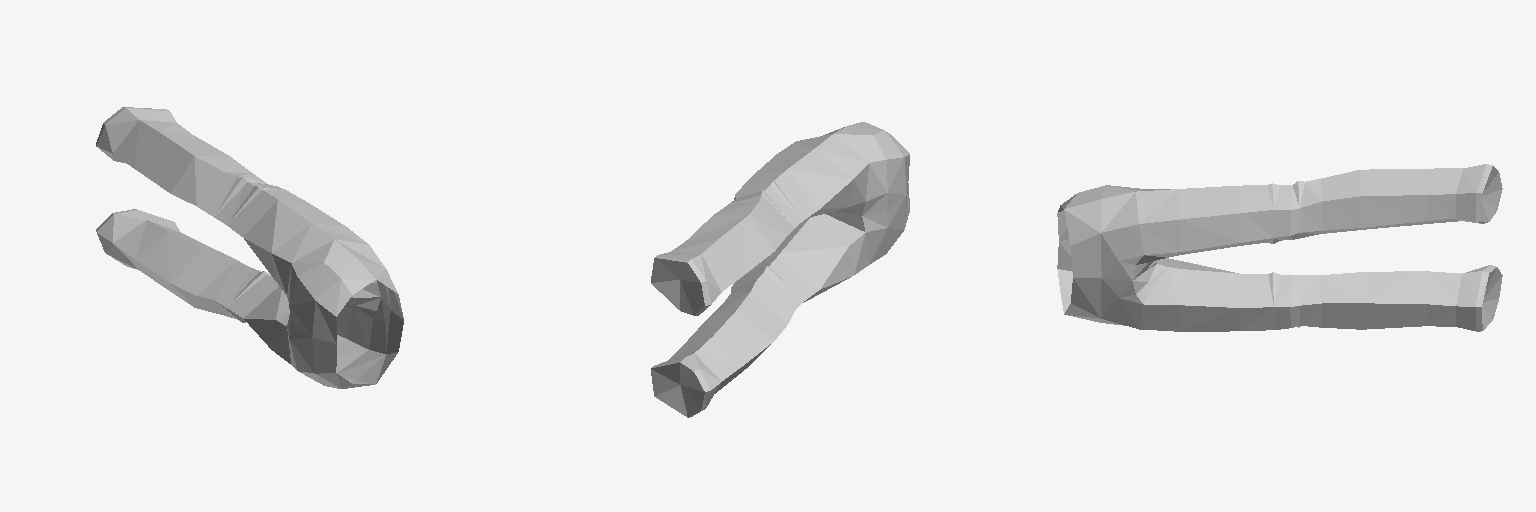
3 renders of one model, left to right at view 1: azimuth 30°, elevation 25°; view 2: azimuth 150°, elevation 25°; view 3: azimuth 270°, elevation 25°, orthographic.
Visible parts, largest first — view 1: rg_downbody_001_re; view 2: rg_downbody_001_re; view 3: rg_downbody_001_re.
Part boxes in pixels (bbox=[...]): rg_downbody_001_re: bbox=[96, 107, 403, 388]; rg_downbody_001_re: bbox=[651, 122, 909, 417]; rg_downbody_001_re: bbox=[1057, 164, 1502, 331].
Bounding box in the file's own units: 25.9 × 38.07 × 97.18.